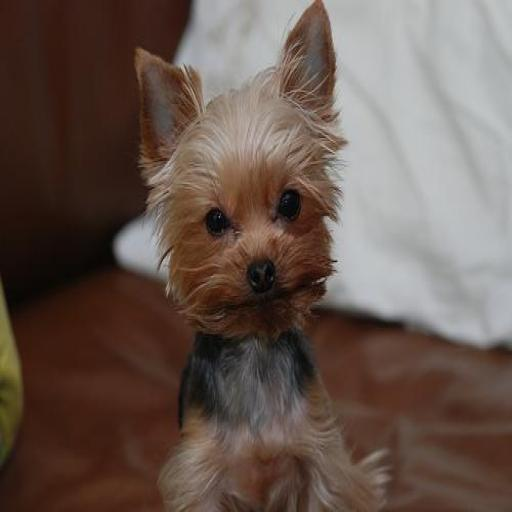dog_face: (137, 10, 330, 335)
